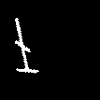double_crochet: (15, 18, 38, 72)
